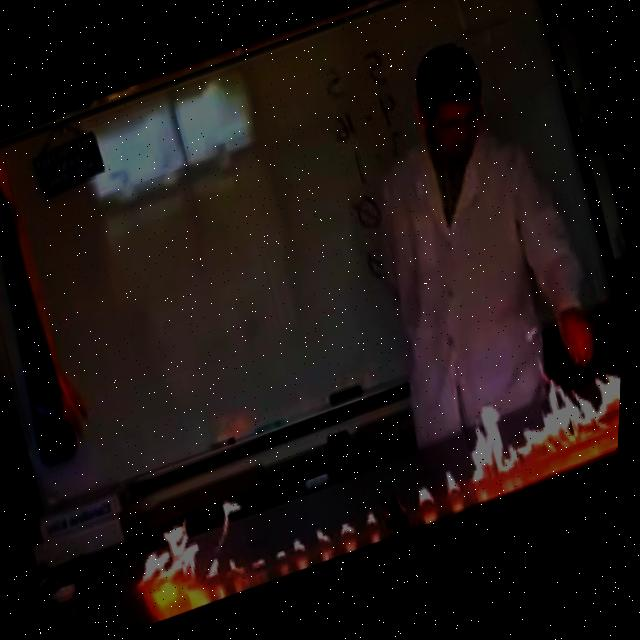Fire: (449, 354, 626, 501), (118, 495, 271, 615), (414, 487, 444, 519), (443, 474, 467, 504), (341, 524, 364, 546), (317, 528, 337, 549), (366, 514, 385, 534)
